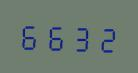six: (18, 18, 42, 52), (43, 19, 67, 52)
three: (68, 19, 92, 53)
two: (93, 20, 117, 54)
